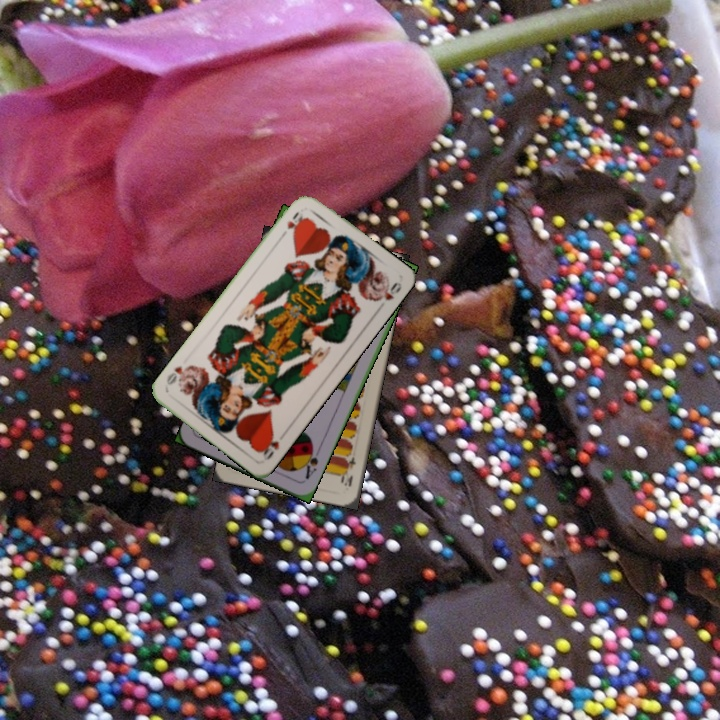E10: (338, 453, 358, 489)
HO: (257, 430, 282, 463), (283, 208, 307, 236)
SA: (298, 442, 321, 482)
